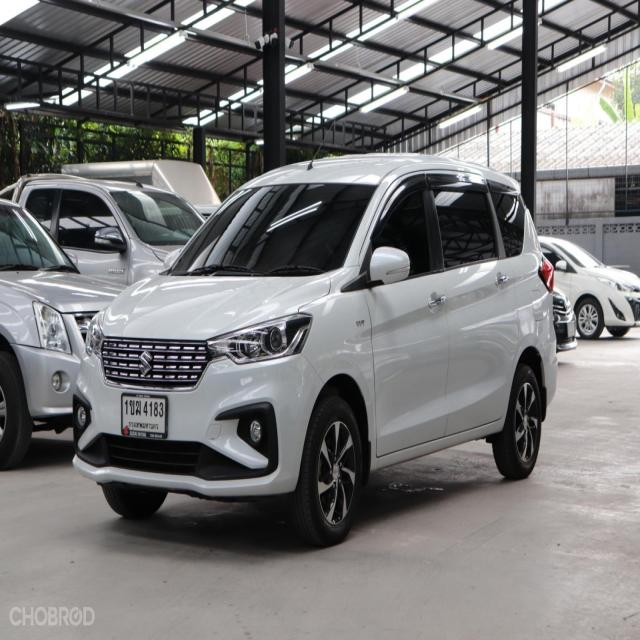license_plate: (122, 392, 169, 443)
